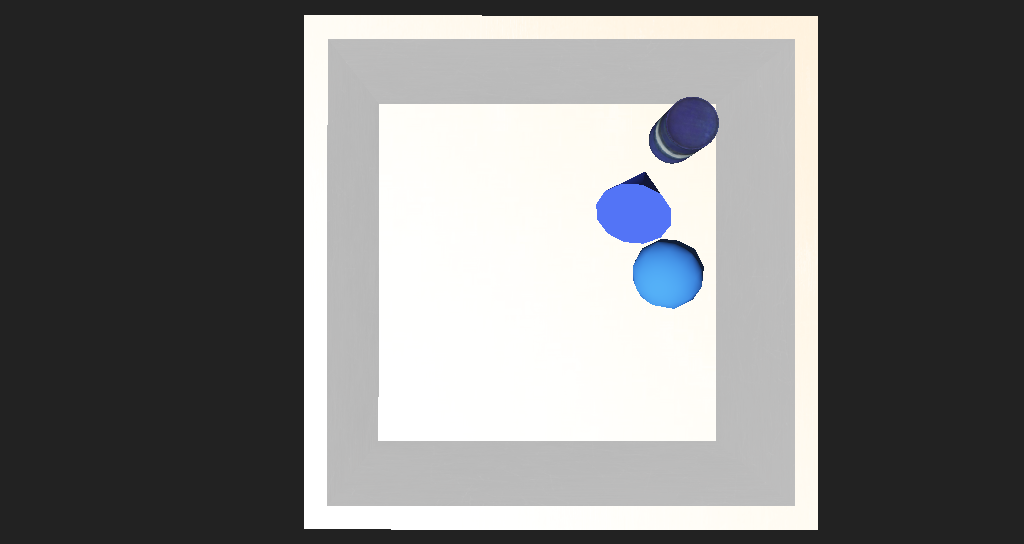cone: (596, 160, 657, 203)
cylinder: (539, 177, 633, 253)
sphere: (583, 251, 643, 293)
